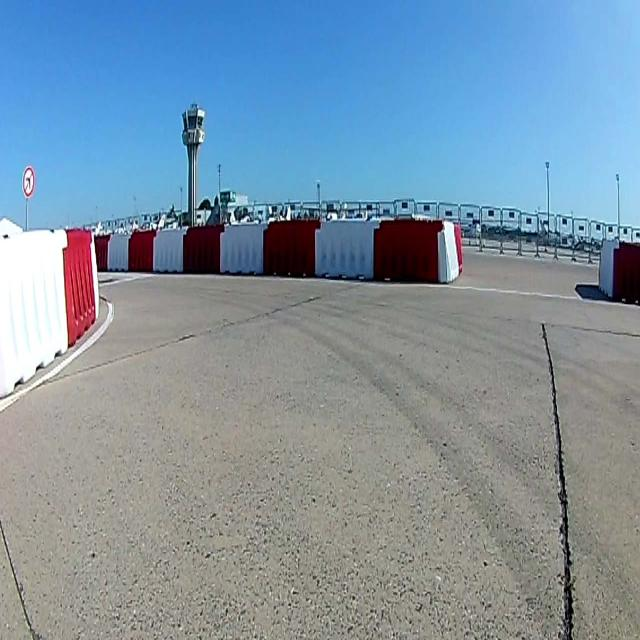soladonulmez: (23, 167, 35, 197)
